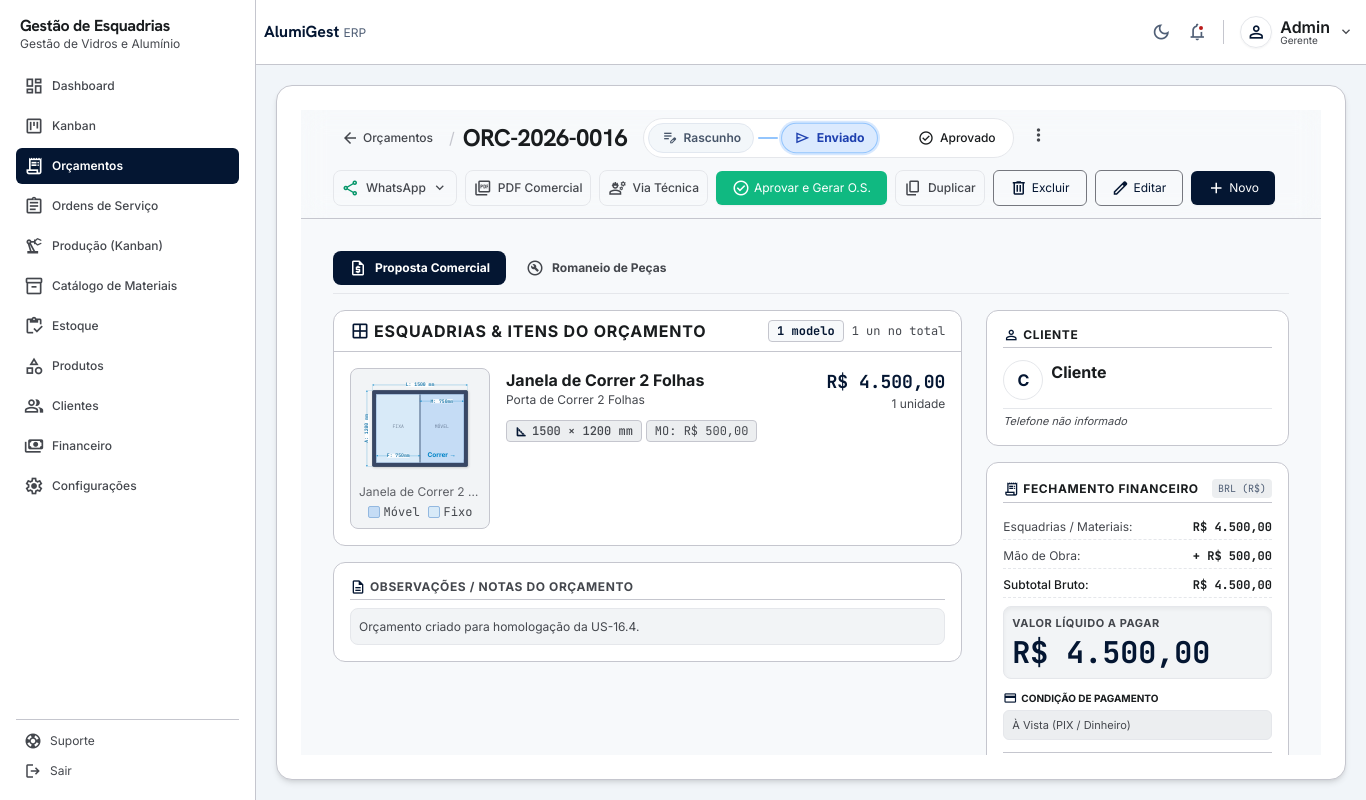
Test: US-16.4: homologação E2E do fluxo de orçamento, pedido e comprovante › Dado um orçamento criado e enviado, quando o vendedor aprova, então converte em pedido
The image size is (1366, 800).
expect the heading "ORC-2026-0016" is shown: met, box [463,122,627,154]
Click the button with test id "btn-approve-budget" at (802, 188), box [716,171,887,205]
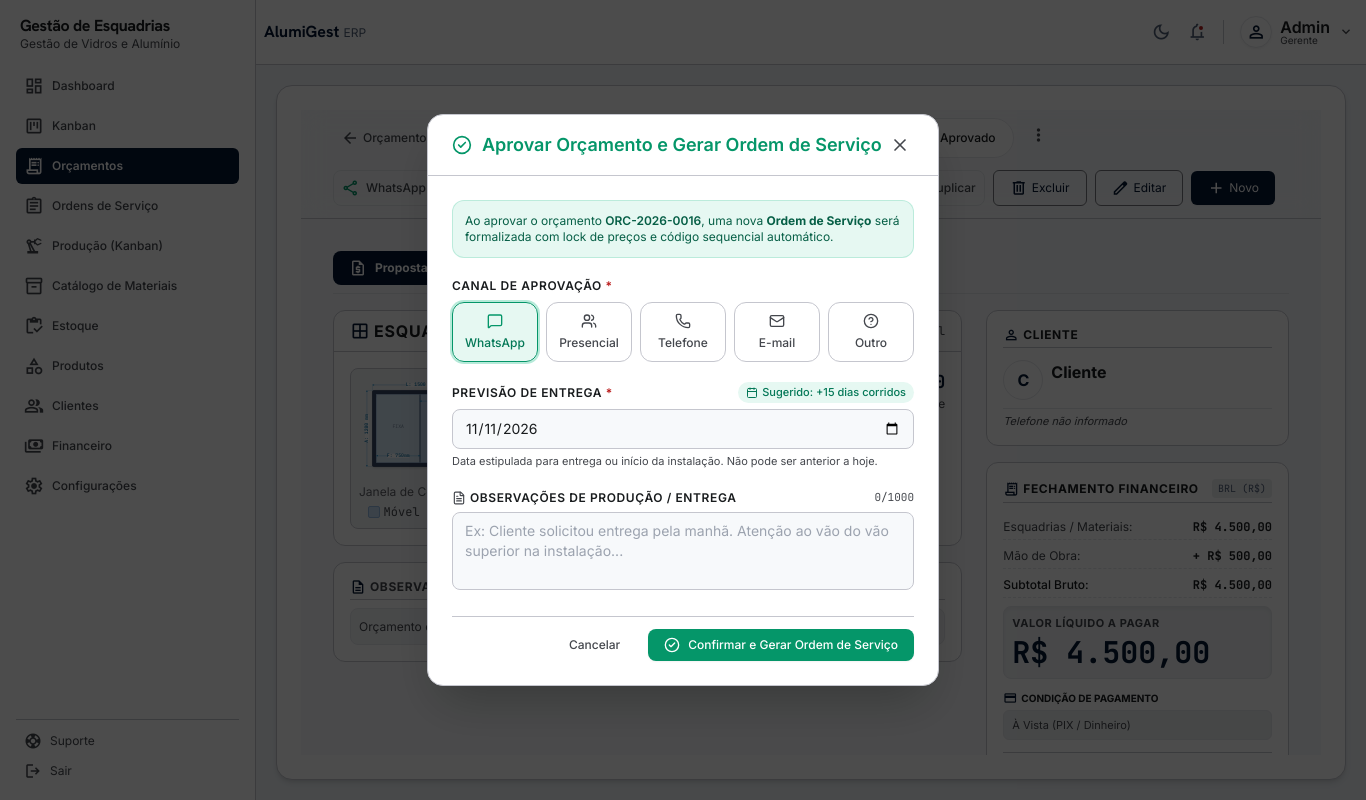
expect the element with test id "order-approval-modal" is shown: met
Click the button with test id "btn-confirm-approval" at (781, 645), box [648,629,914,661]
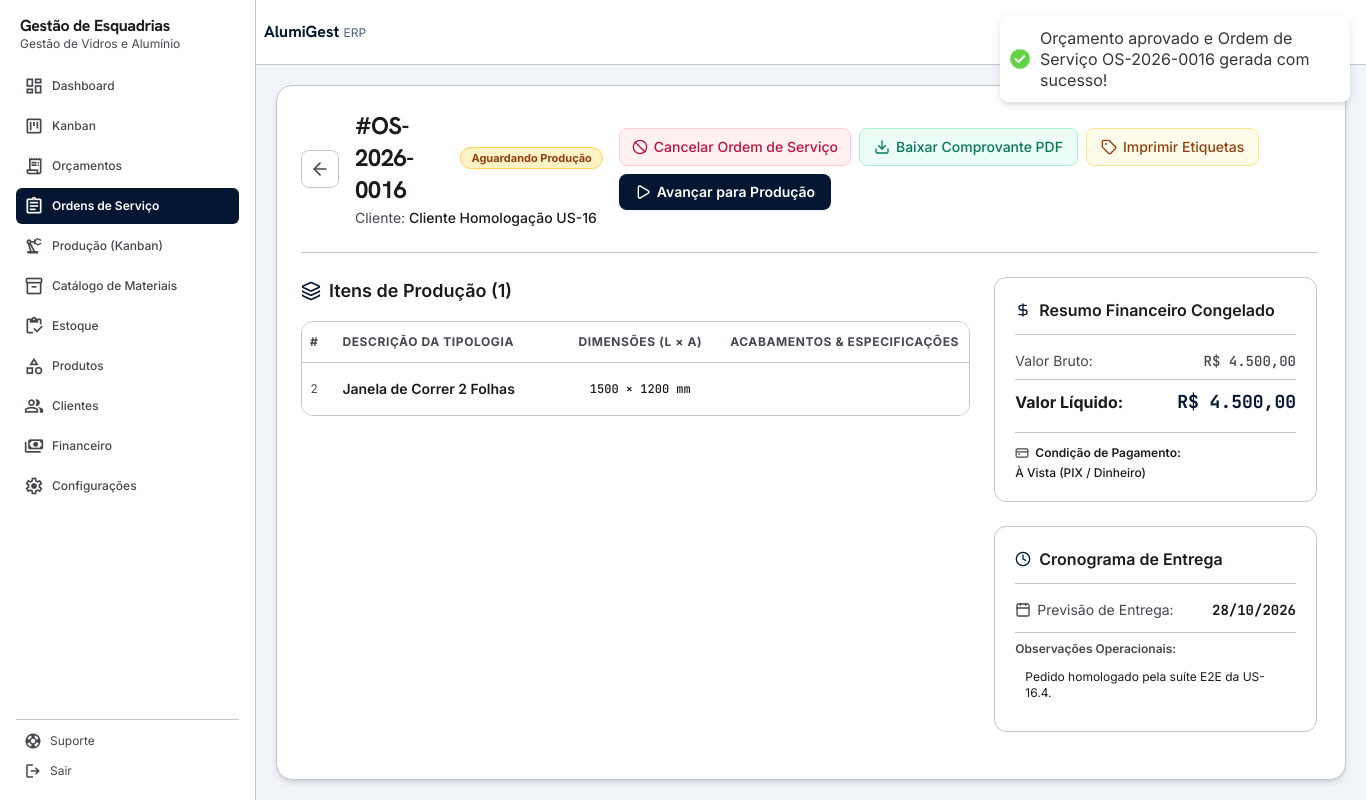
expect the text "Origem & Aprovação Comercial" is shown: met, box [1035,779,1194,799]
expect the text "OS-2026-0016" is shown: met, box [1040,28,1309,90]
